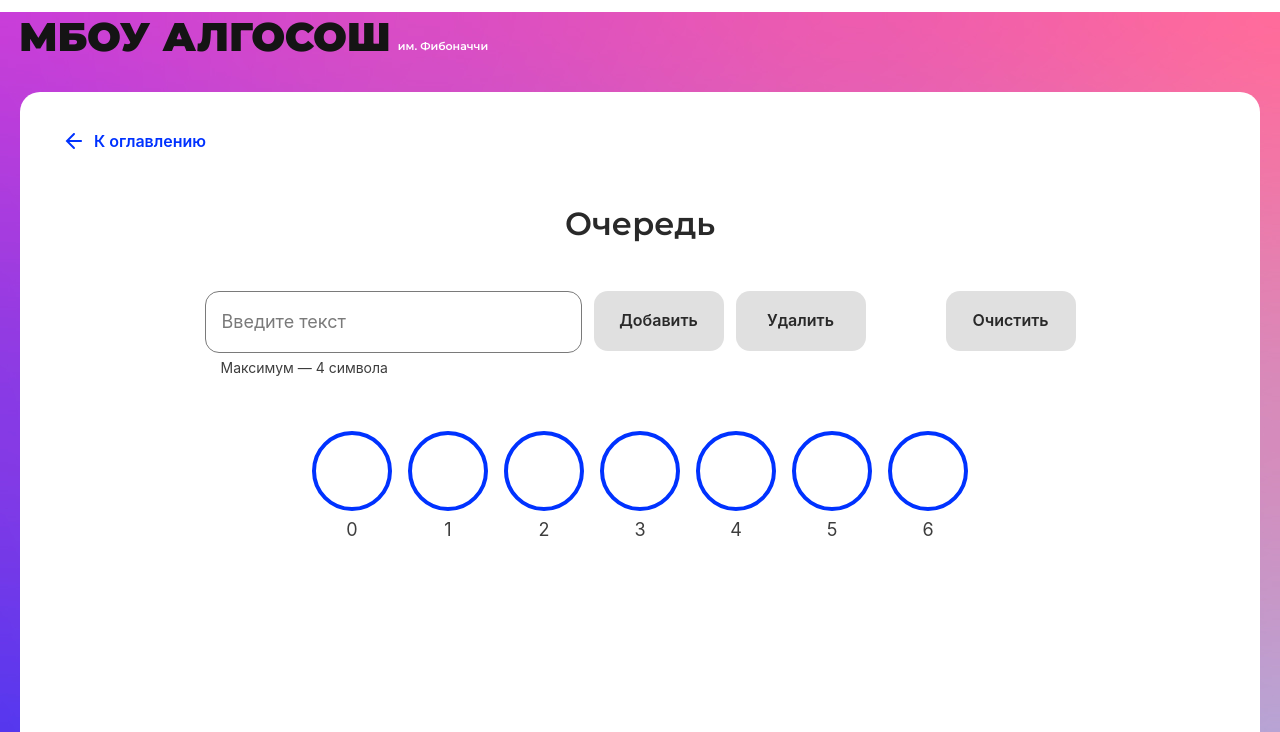
Test: Queue page › should visualize an element deleting from a queue correctly
The width and height of the screenshot is (1280, 732).
Type "1" into the field with test id "value-input".
click(394, 322); type("1")  # box top-left (205, 291), bottom-right (582, 353)
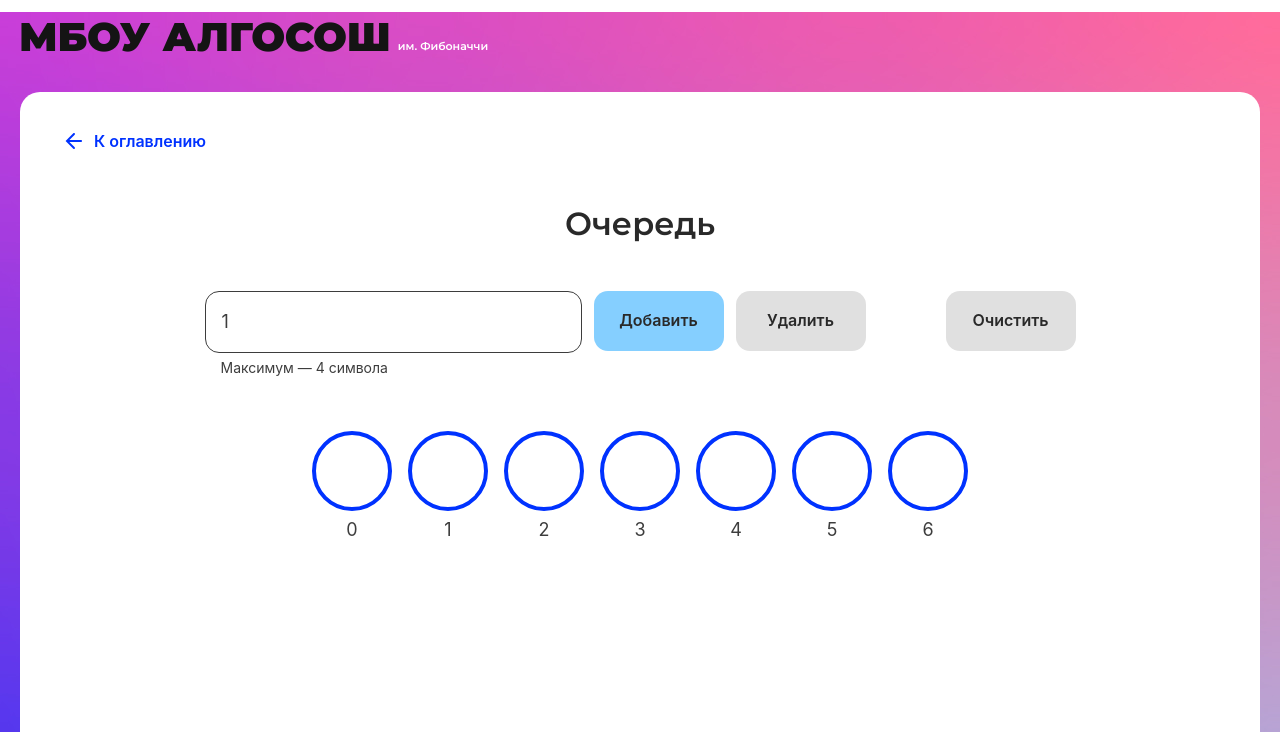
Click the button with test id "add-button".
click(659, 321)  # box top-left (594, 291), bottom-right (724, 351)
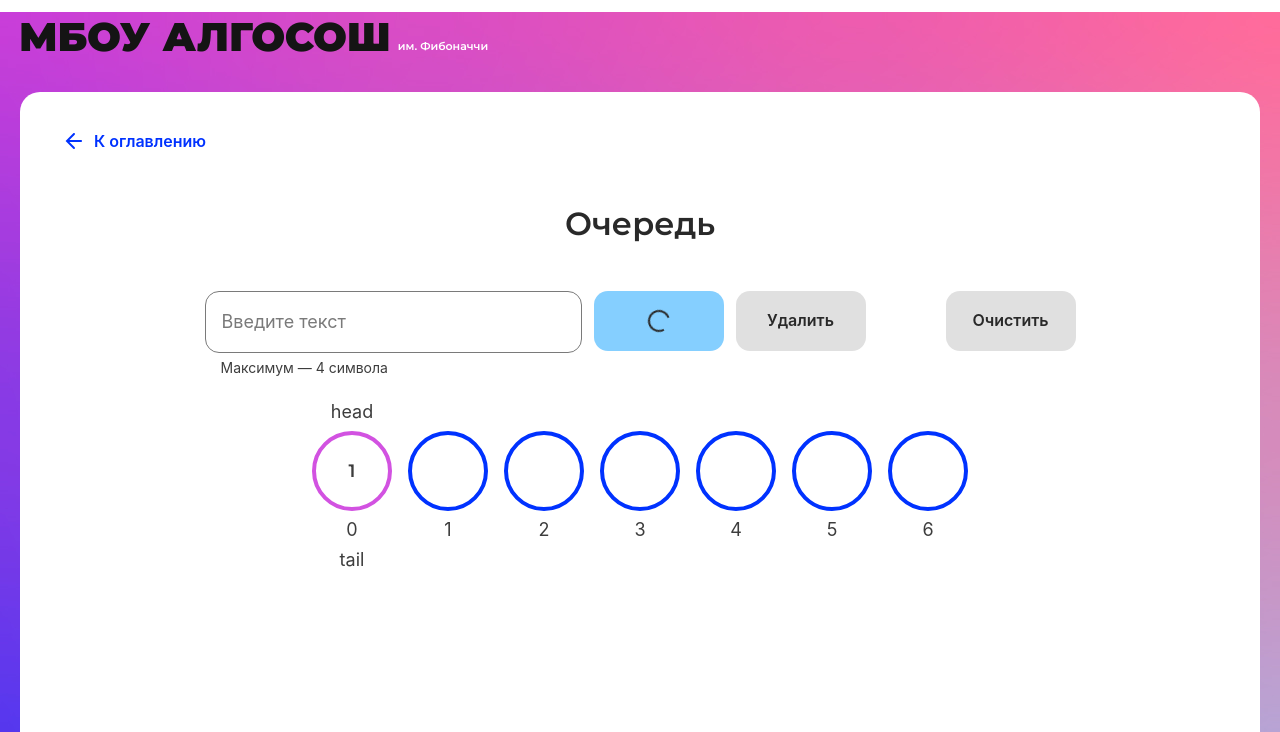
Type "2" into the field with test id "value-input".
click(394, 322); type("2")  # box top-left (205, 291), bottom-right (582, 353)
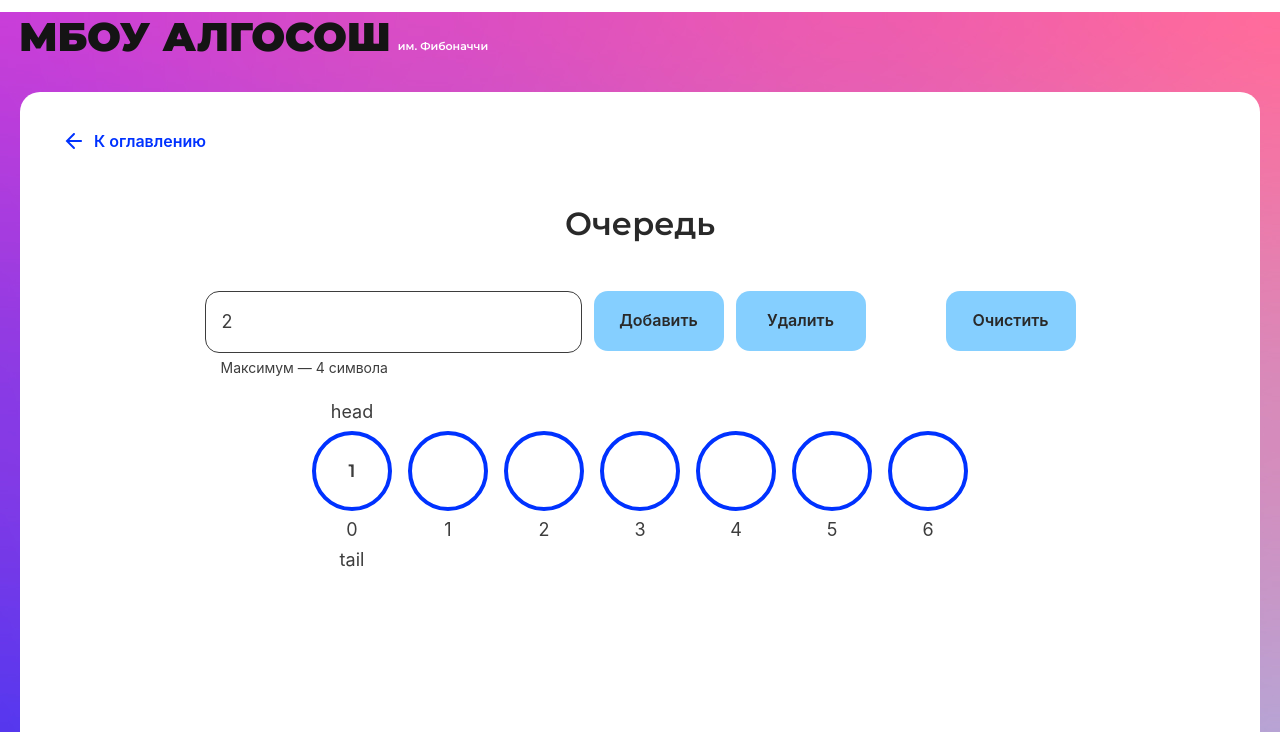
Click the button with test id "add-button".
click(659, 321)  # box top-left (594, 291), bottom-right (724, 351)
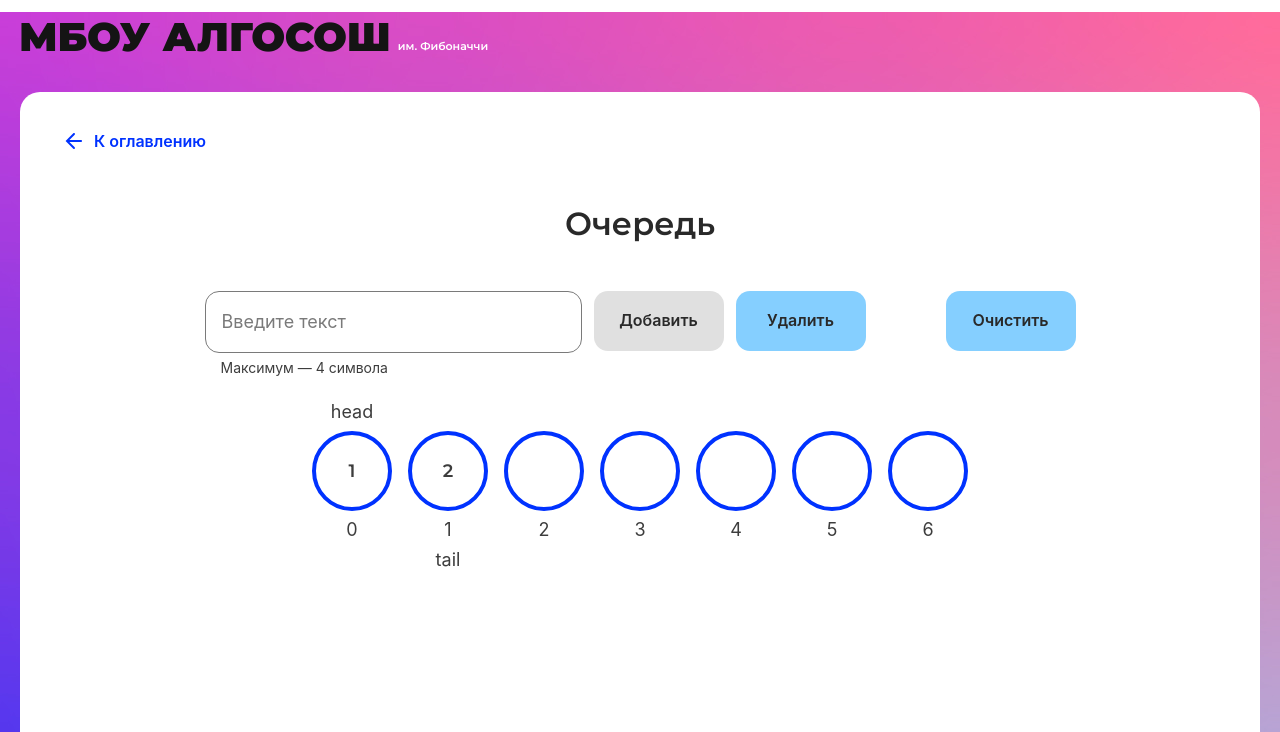
Click the button with test id "delete-button".
click(801, 321)  # box top-left (736, 291), bottom-right (866, 351)
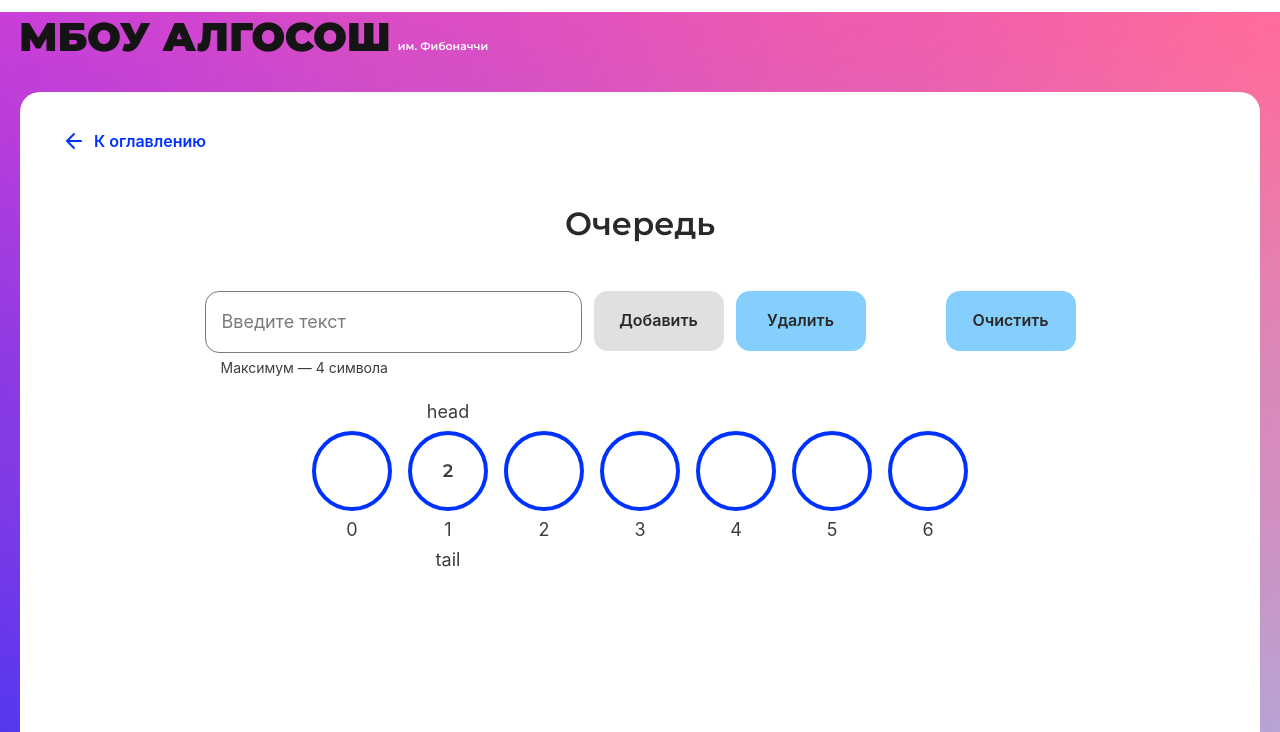
Result: the text with test id "head" reads "head" at top-left (427, 401), bottom-right (469, 422)
Result: the element with test id "circle-core" no longer shows "1"
Result: the element with test id "head" no longer shows "head"
